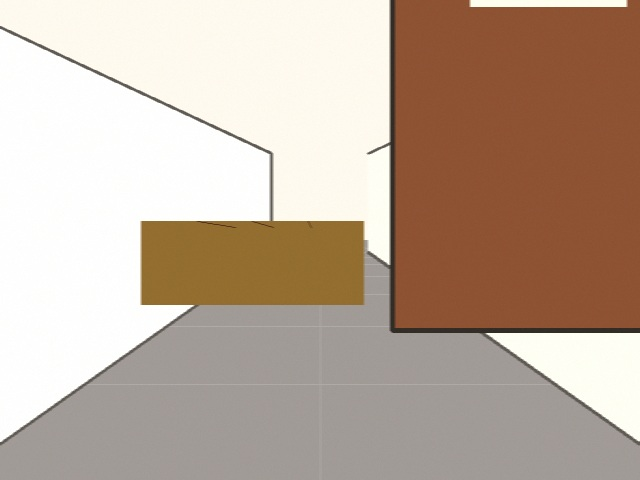directional_sign: (416, 154, 500, 200)
door: (392, 0, 639, 330)
pallet: (141, 221, 363, 304), (393, 226, 582, 287)
